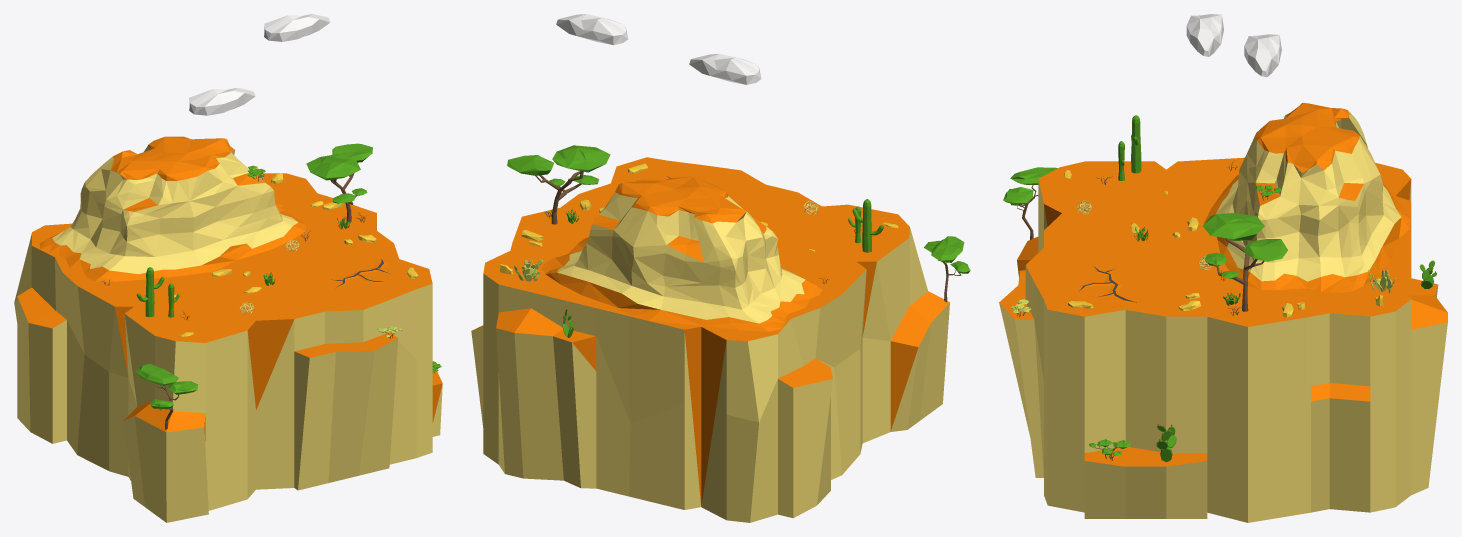
The model's file is Island_1.fbx.
The picture shows the model from 3 angles, left to right: view 1: azimuth 30°, elevation 25°; view 2: azimuth 150°, elevation 25°; view 3: azimuth 270°, elevation 25°; orthographic projection. The views are drawn at different scales.
Visible parts, largest first — view 1: Island_1_Base, Island_1_Rock, Island_1, Island_1_Crack; view 2: Island_1_Base, Island_1_Rock, Island_1; view 3: Island_1_Base, Island_1_Rock, Island_1, Island_1_Crack.
Part boxes in pixels (bbox=[...]): Island_1_Base: bbox=[14, 173, 442, 522]; Island_1_Rock: bbox=[39, 136, 305, 281]; Island_1: bbox=[102, 14, 441, 429]; Island_1_Crack: bbox=[331, 258, 388, 287]; Island_1_Base: bbox=[471, 157, 949, 522]; Island_1_Rock: bbox=[542, 176, 822, 331]; Island_1: bbox=[500, 14, 970, 337]; Island_1_Base: bbox=[999, 157, 1447, 522]; Island_1_Rock: bbox=[1203, 103, 1410, 292]; Island_1: bbox=[1003, 14, 1436, 462]; Island_1_Crack: bbox=[1079, 266, 1140, 303].
Bounding box in the file's own units: 2440 × 2445 × 2645.
